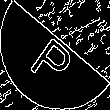P_NE: (28, 24, 82, 86)
